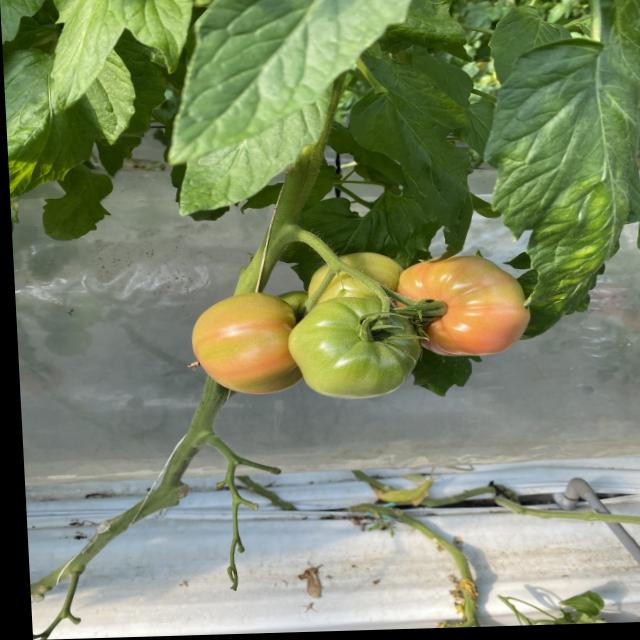yesil: (251, 261, 442, 410)
